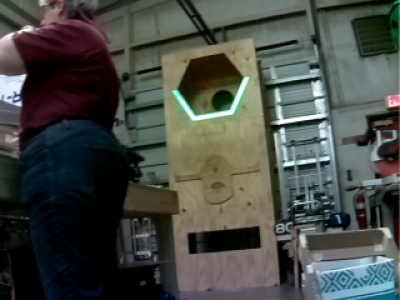target: (171, 76, 251, 120)
